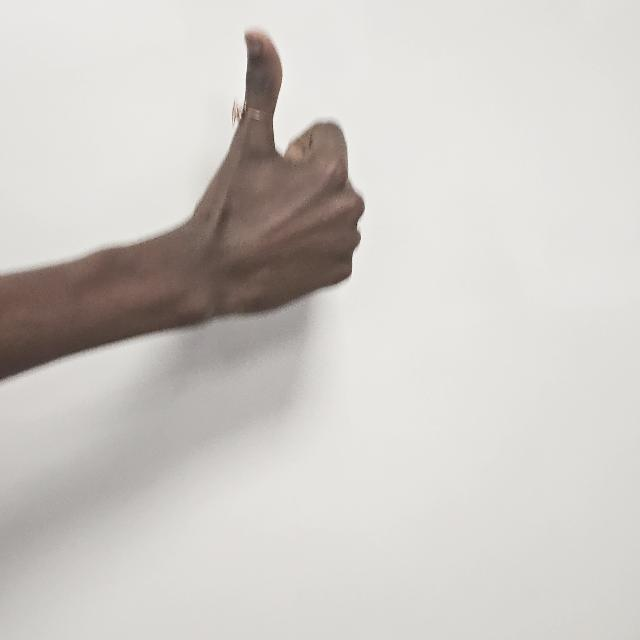Start: (206, 25, 366, 337)
